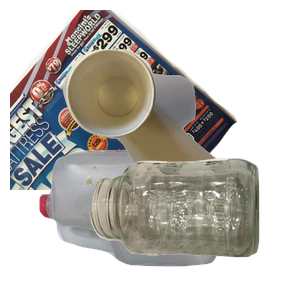glass: (88, 156, 300, 300)
paper: (10, 10, 240, 190)
plastic: (37, 147, 254, 300)
trash: (60, 47, 300, 227)
